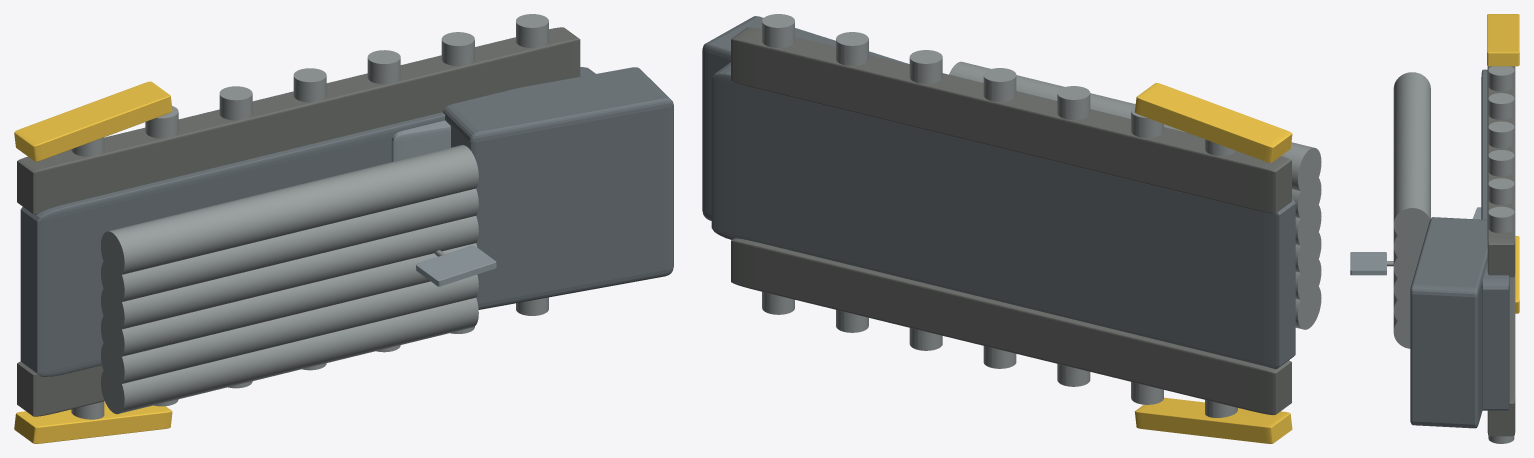
Rendered from s-x02-specter-cruise-lod1.glb.
3 renders of one model, left to right at view 1: azimuth 30°, elevation 25°; view 2: azimuth 150°, elevation 25°; view 3: azimuth 270°, elevation 25°, orthographic. The views are drawn at different scales.
Visible parts, largest first — view 1: strategic_cab, strategic_track_1, strategic_lower, cruise_canister_5, cruise_canister_0, cruise_canister_3, cruise_canister_4, cruise_canister_1, cruise_canister_2, strategic_jack_1, strategic_jack_-1, strategic_track_-1 (+8 smaller); view 2: strategic_lower, strategic_track_1, strategic_track_-1, strategic_jack_1, strategic_jack_-1, cruise_canister_5, strategic_cab, strategic_roadwheel_1_2, strategic_roadwheel_1_3, strategic_roadwheel_1_4, strategic_roadwheel_1_5, strategic_roadwheel_1_6 (+12 smaller); view 3: strategic_cab, cruise_canister_5, strategic_lower, strategic_track_1, strategic_jack_1, strategic_track_-1, cruise_radar_array, cruise_canister_4, strategic_roadwheel_1_2, strategic_roadwheel_1_3, strategic_roadwheel_1_6, strategic_roadwheel_1_4 (+8 smaller).
Boxes of the visible parts, x1=… form: strategic_cab: x1=443, y1=67, x2=673, y2=309; strategic_track_1: x1=17, y1=27, x2=580, y2=214; strategic_lower: x1=20, y1=67, x2=595, y2=376; cruise_canister_5: x1=101, y1=145, x2=478, y2=277; cruise_canister_0: x1=101, y1=297, x2=478, y2=414; cruise_canister_3: x1=101, y1=216, x2=478, y2=332; cruise_canister_4: x1=101, y1=188, x2=478, y2=304; cruise_canister_1: x1=101, y1=274, x2=478, y2=386; cruise_canister_2: x1=101, y1=243, x2=477, y2=358; strategic_jack_1: x1=14, y1=81, x2=172, y2=161; strategic_jack_-1: x1=14, y1=402, x2=172, y2=443; strategic_track_-1: x1=17, y1=361, x2=104, y2=416; strategic_lower: x1=711, y1=62, x2=1295, y2=369; strategic_track_1: x1=731, y1=27, x2=1291, y2=213; strategic_track_-1: x1=731, y1=238, x2=1291, y2=415; strategic_jack_1: x1=1134, y1=83, x2=1292, y2=162; strategic_jack_-1: x1=1134, y1=397, x2=1292, y2=443; cruise_canister_5: x1=949, y1=61, x2=1321, y2=193; strategic_cab: x1=702, y1=16, x2=909, y2=220; strategic_roadwheel_1_2: x1=1057, y1=86, x2=1090, y2=119; strategic_roadwheel_1_3: x1=983, y1=68, x2=1016, y2=101; strategic_roadwheel_1_4: x1=909, y1=50, x2=942, y2=83; strategic_roadwheel_1_5: x1=836, y1=32, x2=868, y2=65; strategic_roadwheel_1_6: x1=762, y1=14, x2=794, y2=47; strategic_cab: x1=1410, y1=217, x2=1487, y2=428; cruise_canister_5: x1=1393, y1=72, x2=1430, y2=238; strategic_lower: x1=1481, y1=69, x2=1509, y2=410; strategic_track_1: x1=1487, y1=66, x2=1515, y2=277; strategic_jack_1: x1=1487, y1=14, x2=1519, y2=66; strategic_track_-1: x1=1487, y1=274, x2=1515, y2=436; cruise_radar_array: x1=1350, y1=252, x2=1386, y2=275; cruise_canister_4: x1=1393, y1=227, x2=1425, y2=262; strategic_roadwheel_1_2: x1=1488, y1=93, x2=1514, y2=119; strategic_roadwheel_1_3: x1=1488, y1=121, x2=1514, y2=148; strategic_roadwheel_1_6: x1=1488, y1=206, x2=1514, y2=233; strategic_roadwheel_1_4: x1=1488, y1=150, x2=1514, y2=176.
Size of what is drawn, in the model's own units: 10.01 by 5.29 by 3.11.
